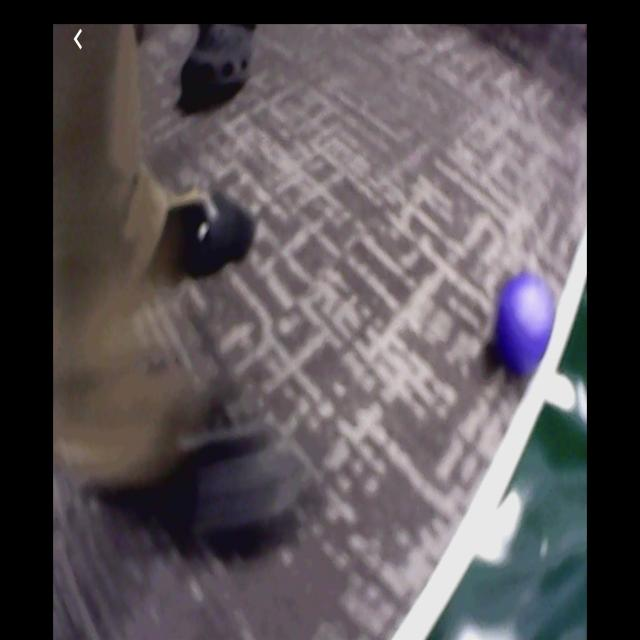ball: (496, 277, 557, 367)
